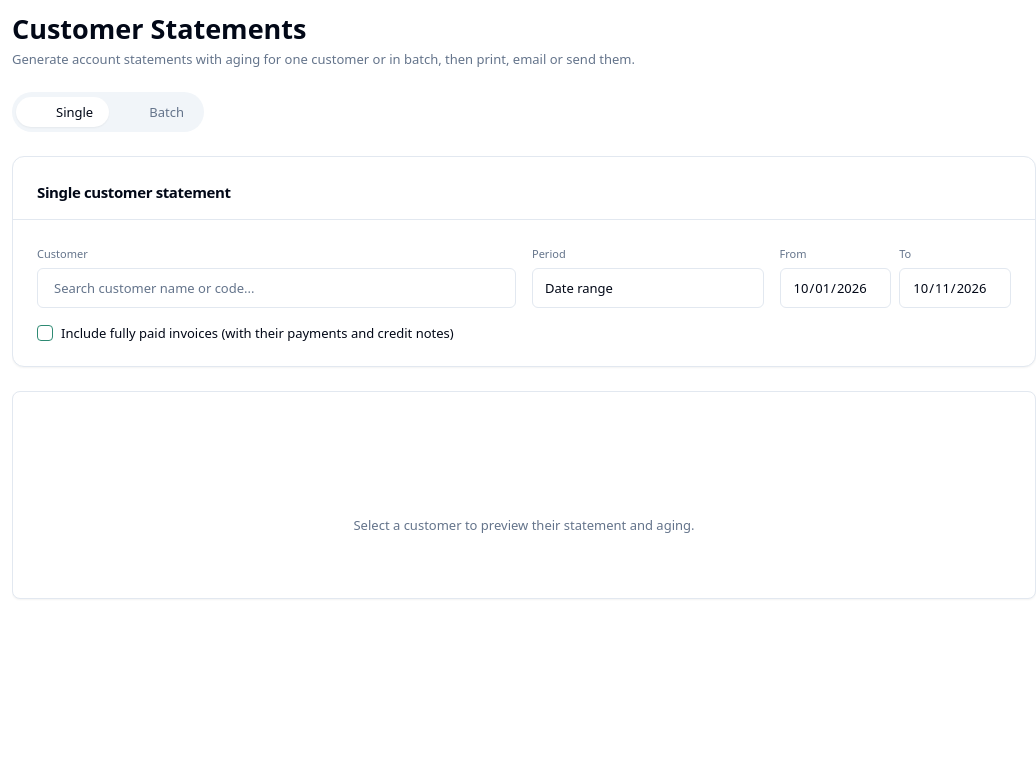
Test: SalesStatementsPage (#607) › previews the batch list with closing balance and overdue columns
The image size is (1036, 780).
Press the mouse on the tab "Batch" at (155,112), box [109,97,200,127]
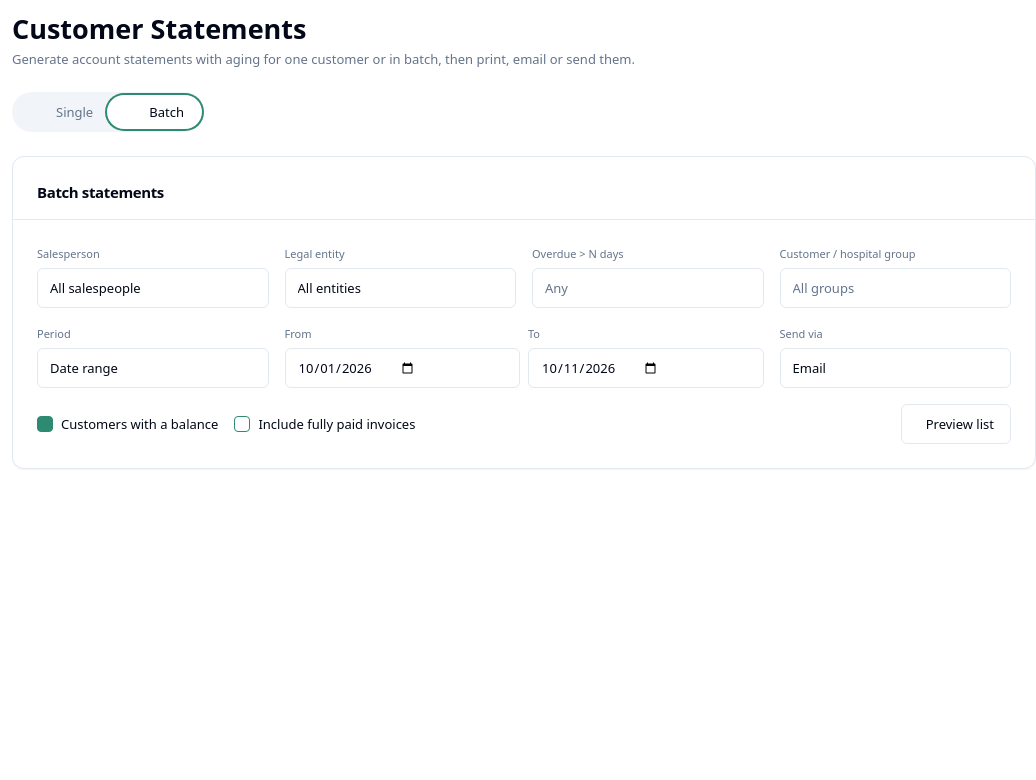
Click the button "Preview list" at (956,424), box [901,404,1011,444]
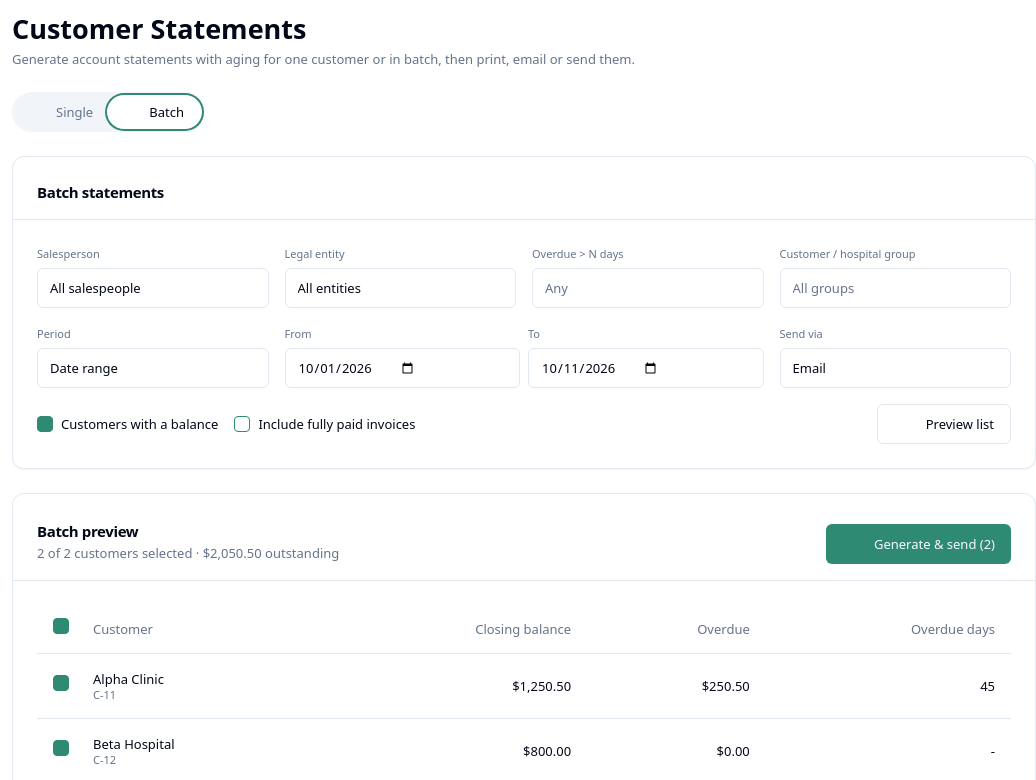
Expected: the text "Alpha Clinic" is shown, [93,670,164,688]
Expected: the text "Beta Hospital" is shown, [93,734,175,752]
Expected: the column heading "Overdue" is shown, [587,605,766,653]
